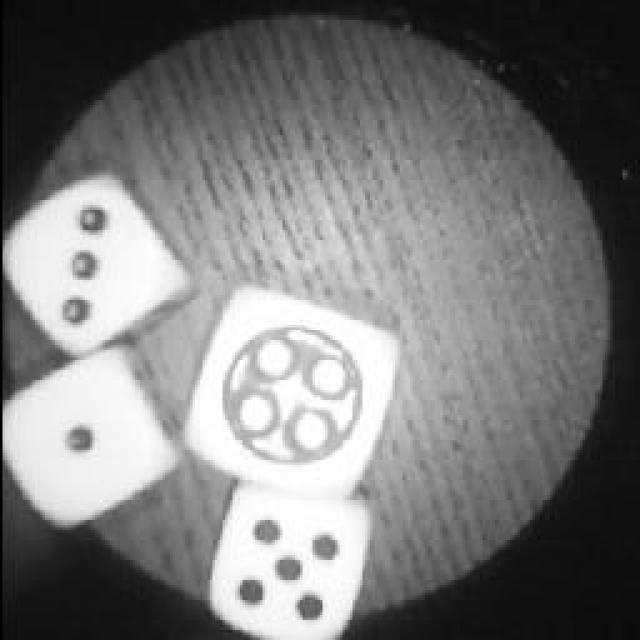dice_1: (0, 355, 180, 543)
dice_3: (0, 167, 192, 360)
dice_5: (175, 285, 407, 497), (192, 480, 372, 640)
